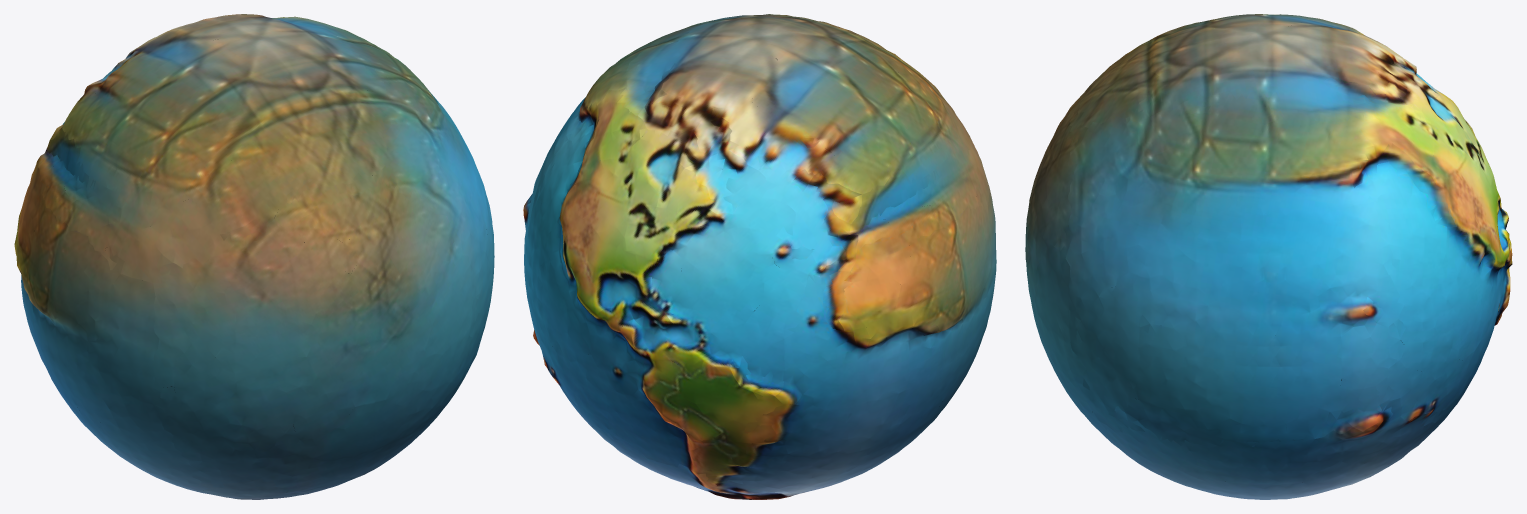
The model's file is planet earth.glb.
3 views of the same model, side by side, from view 1: azimuth 30°, elevation 25°; view 2: azimuth 150°, elevation 25°; view 3: azimuth 270°, elevation 25° (orthographic).
Visible parts, largest first — view 1: world; view 2: world; view 3: world.
Boxes of the visible parts, <box> form: world: <box>14,14,494,499</box>; world: <box>523,14,996,499</box>; world: <box>1025,14,1512,499</box>.
Bounding box in the file's own units: 0.9126 × 0.9268 × 0.9284.
1 material, 1 textured.
